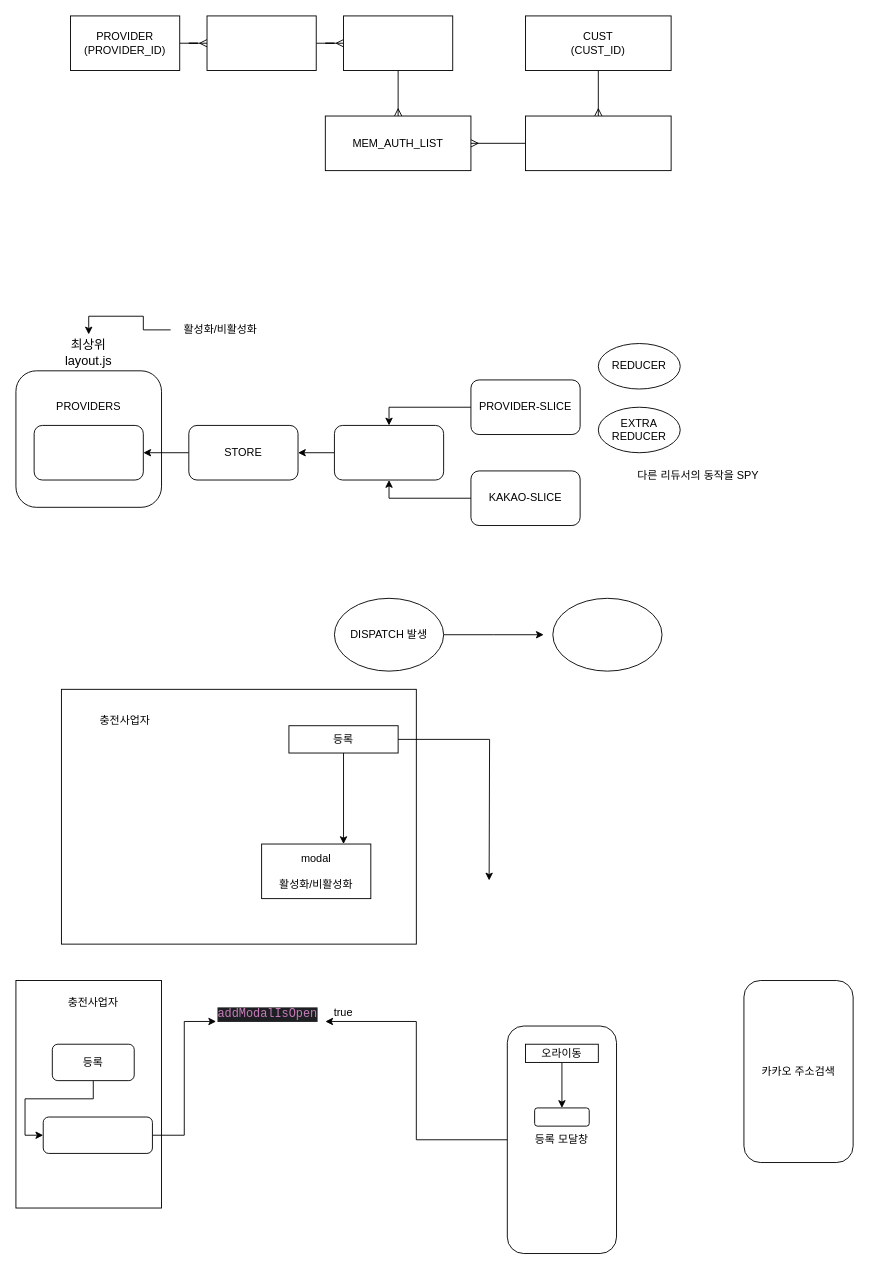
Some shapes in this 869 by 1269 pixel diagram are drawn without their labels. The centre of each missing label's shape, as x and y in pixels:
CHGR (CHGR_ID): point 398,43
MEMSH_CARD_INFO (MEMSH_CARD_NO): point 598,143
openModal: point 97,1134
PROVIDER: point 88,452
REDUCERS: point 389,452
ST (ST_ID): point 261,43
useSeletor로 상태값 변경 감지: point 607,634
주소검색: point 561,1116
